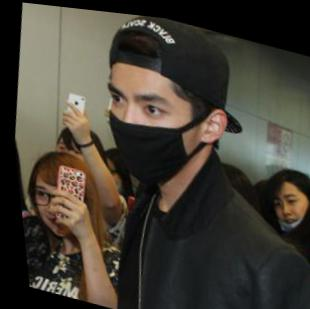NONE: (24, 177, 84, 244)
OK: (92, 63, 203, 191)
WRONG: (265, 178, 310, 234)
